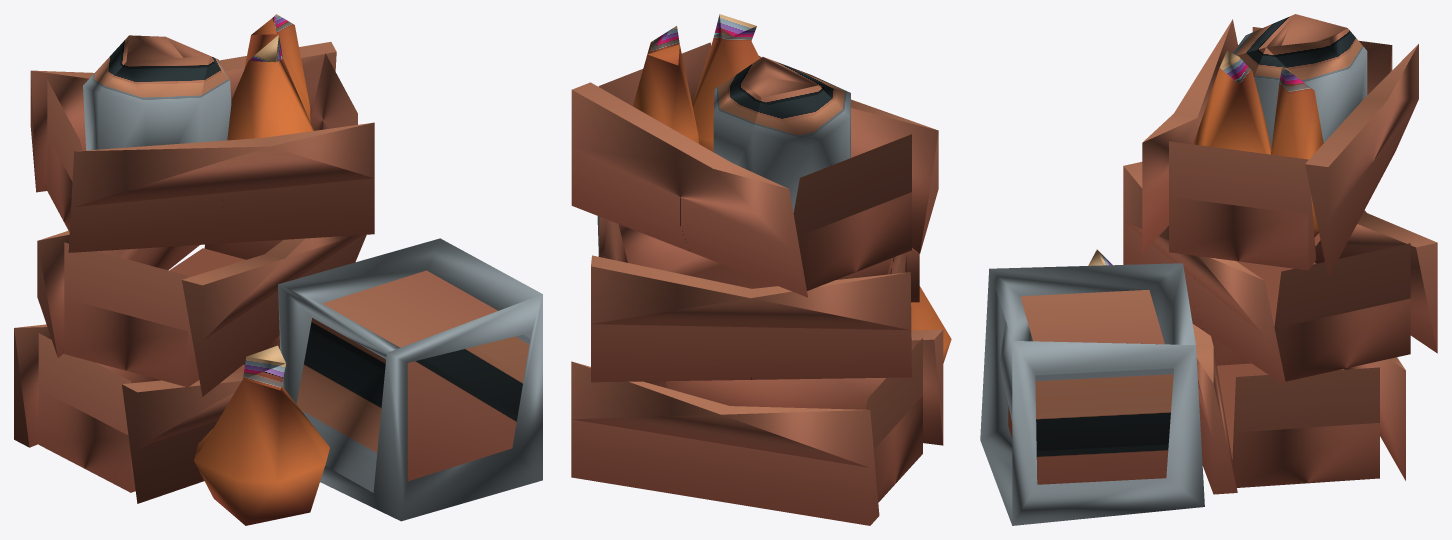
The model's file is crates_stacked-small.glb.
3 renders of one model, left to right at view 1: azimuth 30°, elevation 25°; view 2: azimuth 150°, elevation 25°; view 3: azimuth 270°, elevation 25°, orthographic. The views are drawn at different scales.
Parts seen in each view (by area): view 1: crates_stacked; view 2: crates_stacked; view 3: crates_stacked.
Boxes of the visible parts, x1,y1,x2,y2 form: crates_stacked: (14, 14, 542, 525); crates_stacked: (571, 14, 951, 525); crates_stacked: (980, 14, 1437, 525).
Size of the model in its own units: 2.08 by 2.14 by 2.24.
1 material, 1 textured.
